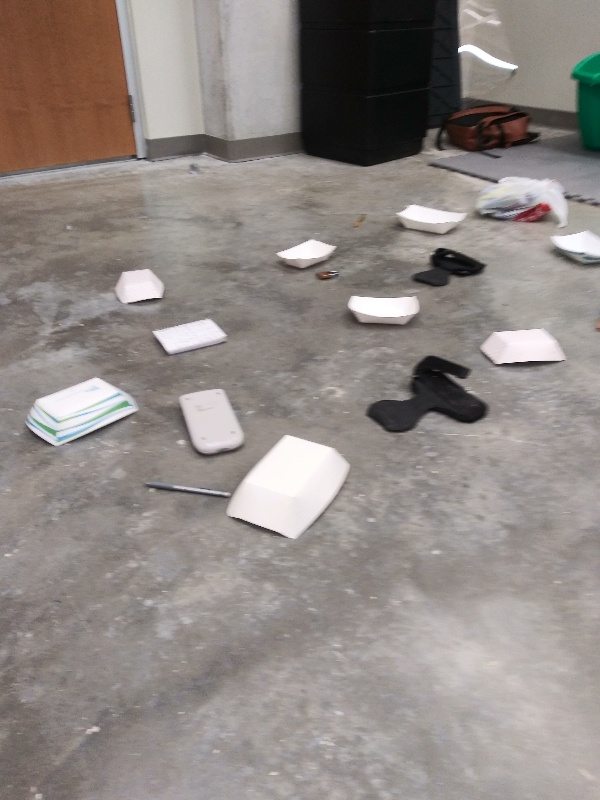plate: (221, 430, 355, 543), (21, 375, 143, 451), (476, 325, 572, 371), (342, 291, 421, 333), (390, 200, 473, 238), (271, 235, 343, 275), (112, 266, 176, 306), (544, 225, 600, 268)
